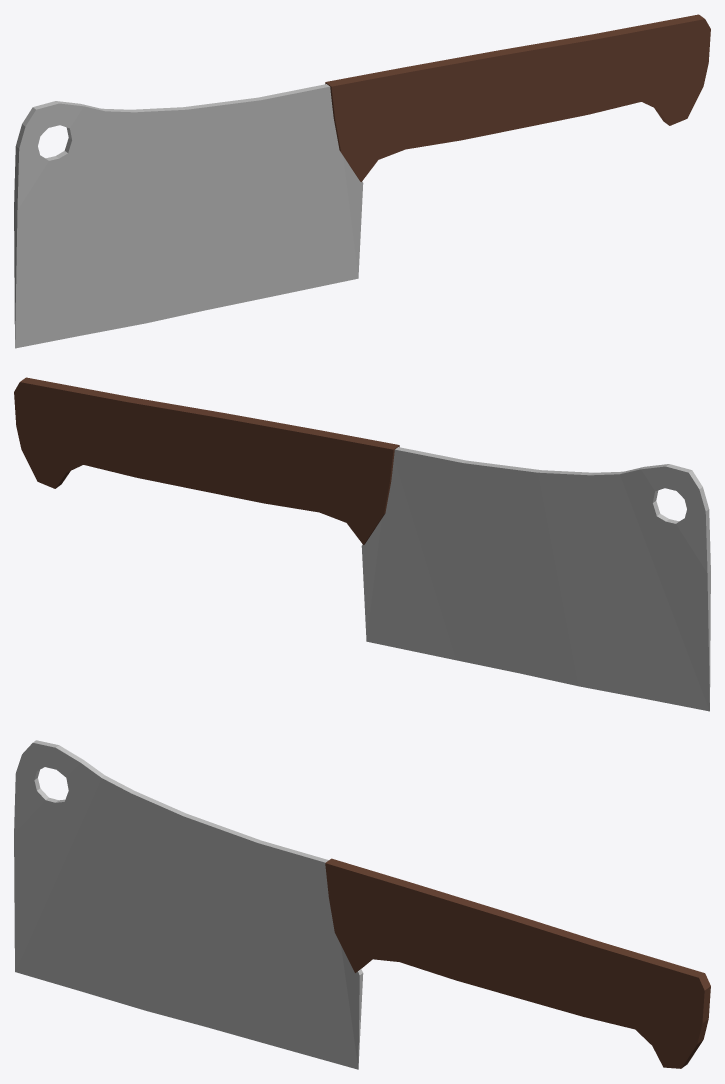
File: Knife2.fbx
3 renders of one model, top to bottom at view 1: azimuth 30°, elevation 25°; view 2: azimuth 150°, elevation 25°; view 3: azimuth 330°, elevation 25°, orthographic.
Parts seen in each view (by area): view 1: Plane, Plane.001; view 2: Plane, Plane.001; view 3: Plane, Plane.001.
Boxes of the visible parts, x1=… form: Plane: x1=14, y1=84, x2=363, y2=348; Plane.001: x1=325, y1=14, x2=710, y2=181; Plane: x1=361, y1=447, x2=710, y2=711; Plane.001: x1=14, y1=377, x2=399, y2=544; Plane: x1=14, y1=740, x2=363, y2=1069; Plane.001: x1=325, y1=858, x2=710, y2=1068.
Size of the model in its own units: 210 by 72.28 by 3.3.
